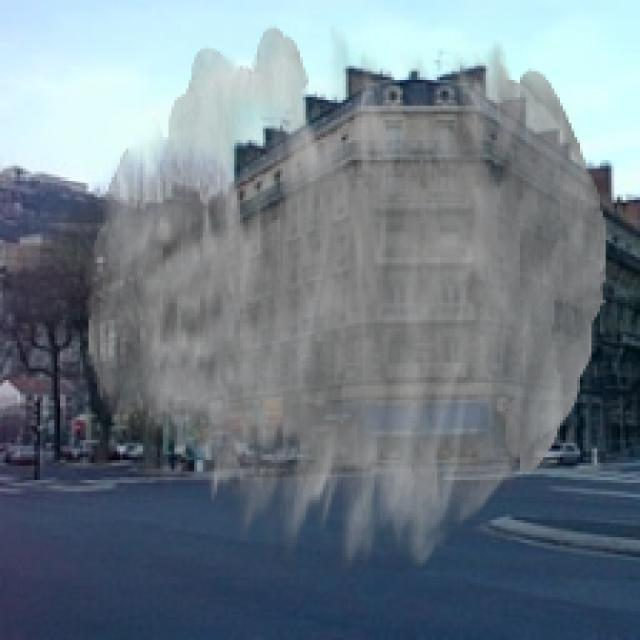Smoke: (85, 26, 606, 574)
